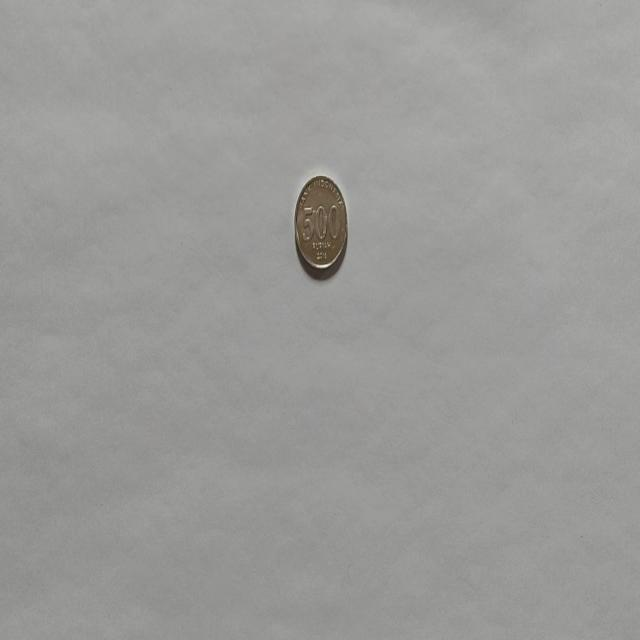lima ratus rupiah: (293, 172, 348, 278)
